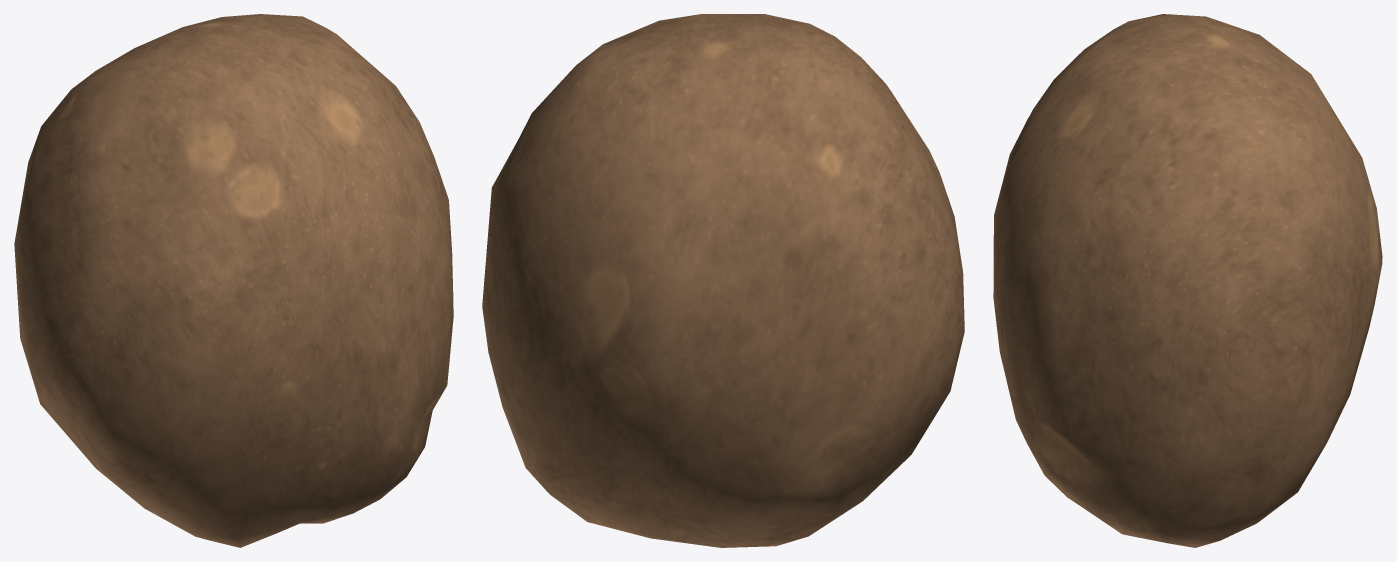
File: SM_Potato.fbx
3 views of the same model, side by side, from view 1: azimuth 30°, elevation 25°; view 2: azimuth 150°, elevation 25°; view 3: azimuth 270°, elevation 25° (orthographic). The views are drawn at different scales.
Visible parts, largest first — view 1: SM_Potato_LOD0; view 2: SM_Potato_LOD0; view 3: SM_Potato_LOD0.
Boxes of the visible parts, x1=… form: SM_Potato_LOD0: x1=14, y1=14, x2=453, y2=547; SM_Potato_LOD0: x1=482, y1=14, x2=964, y2=547; SM_Potato_LOD0: x1=993, y1=14, x2=1382, y2=547.
Size of the model in its own units: 12.3 by 11 by 14.41.
1 material, 1 textured.
